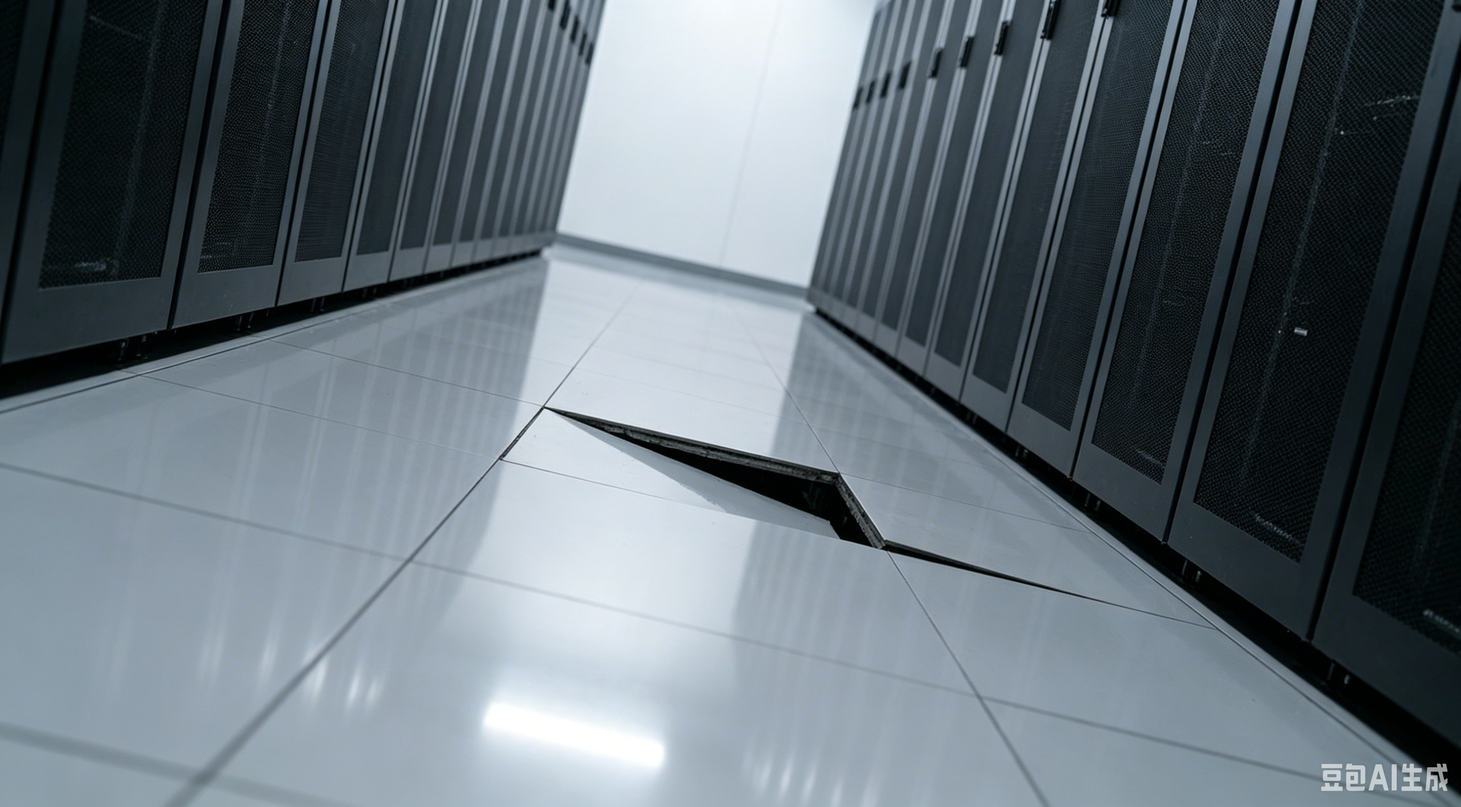floor_defect: (499, 401, 879, 563), (873, 503, 1041, 591)
